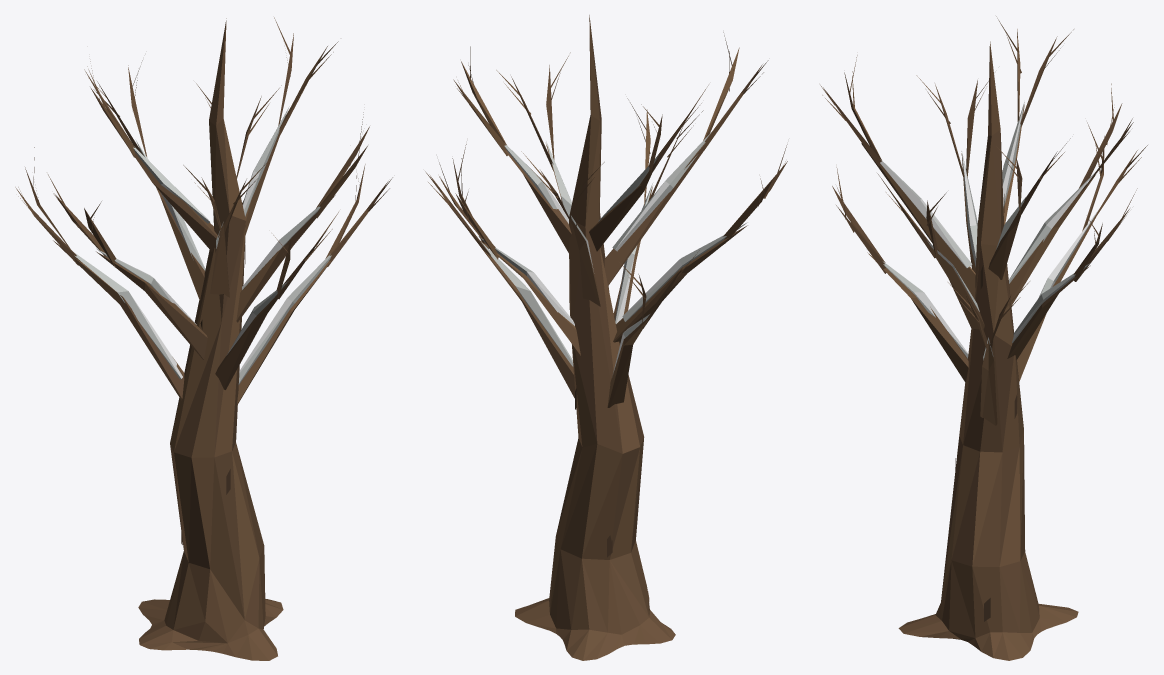
Rendered from oak_winter.glb.
3 views of the same model, side by side, from view 1: azimuth 30°, elevation 25°; view 2: azimuth 150°, elevation 25°; view 3: azimuth 270°, elevation 25° (orthographic). The views are drawn at different scales.
Parts seen in each view (by area): view 1: branches, snow; view 2: branches, snow; view 3: branches, snow.
Boxes of the visible parts, <box> form: branches: <box>15,17,392,660</box>; snow: <box>74,106,331,384</box>; branches: <box>425,15,787,660</box>; snow: <box>478,132,747,373</box>; branches: <box>820,16,1147,660</box>; snow: <box>867,102,1098,360</box>.
Bounding box in the file's own units: 2.56 × 4.52 × 2.3.
